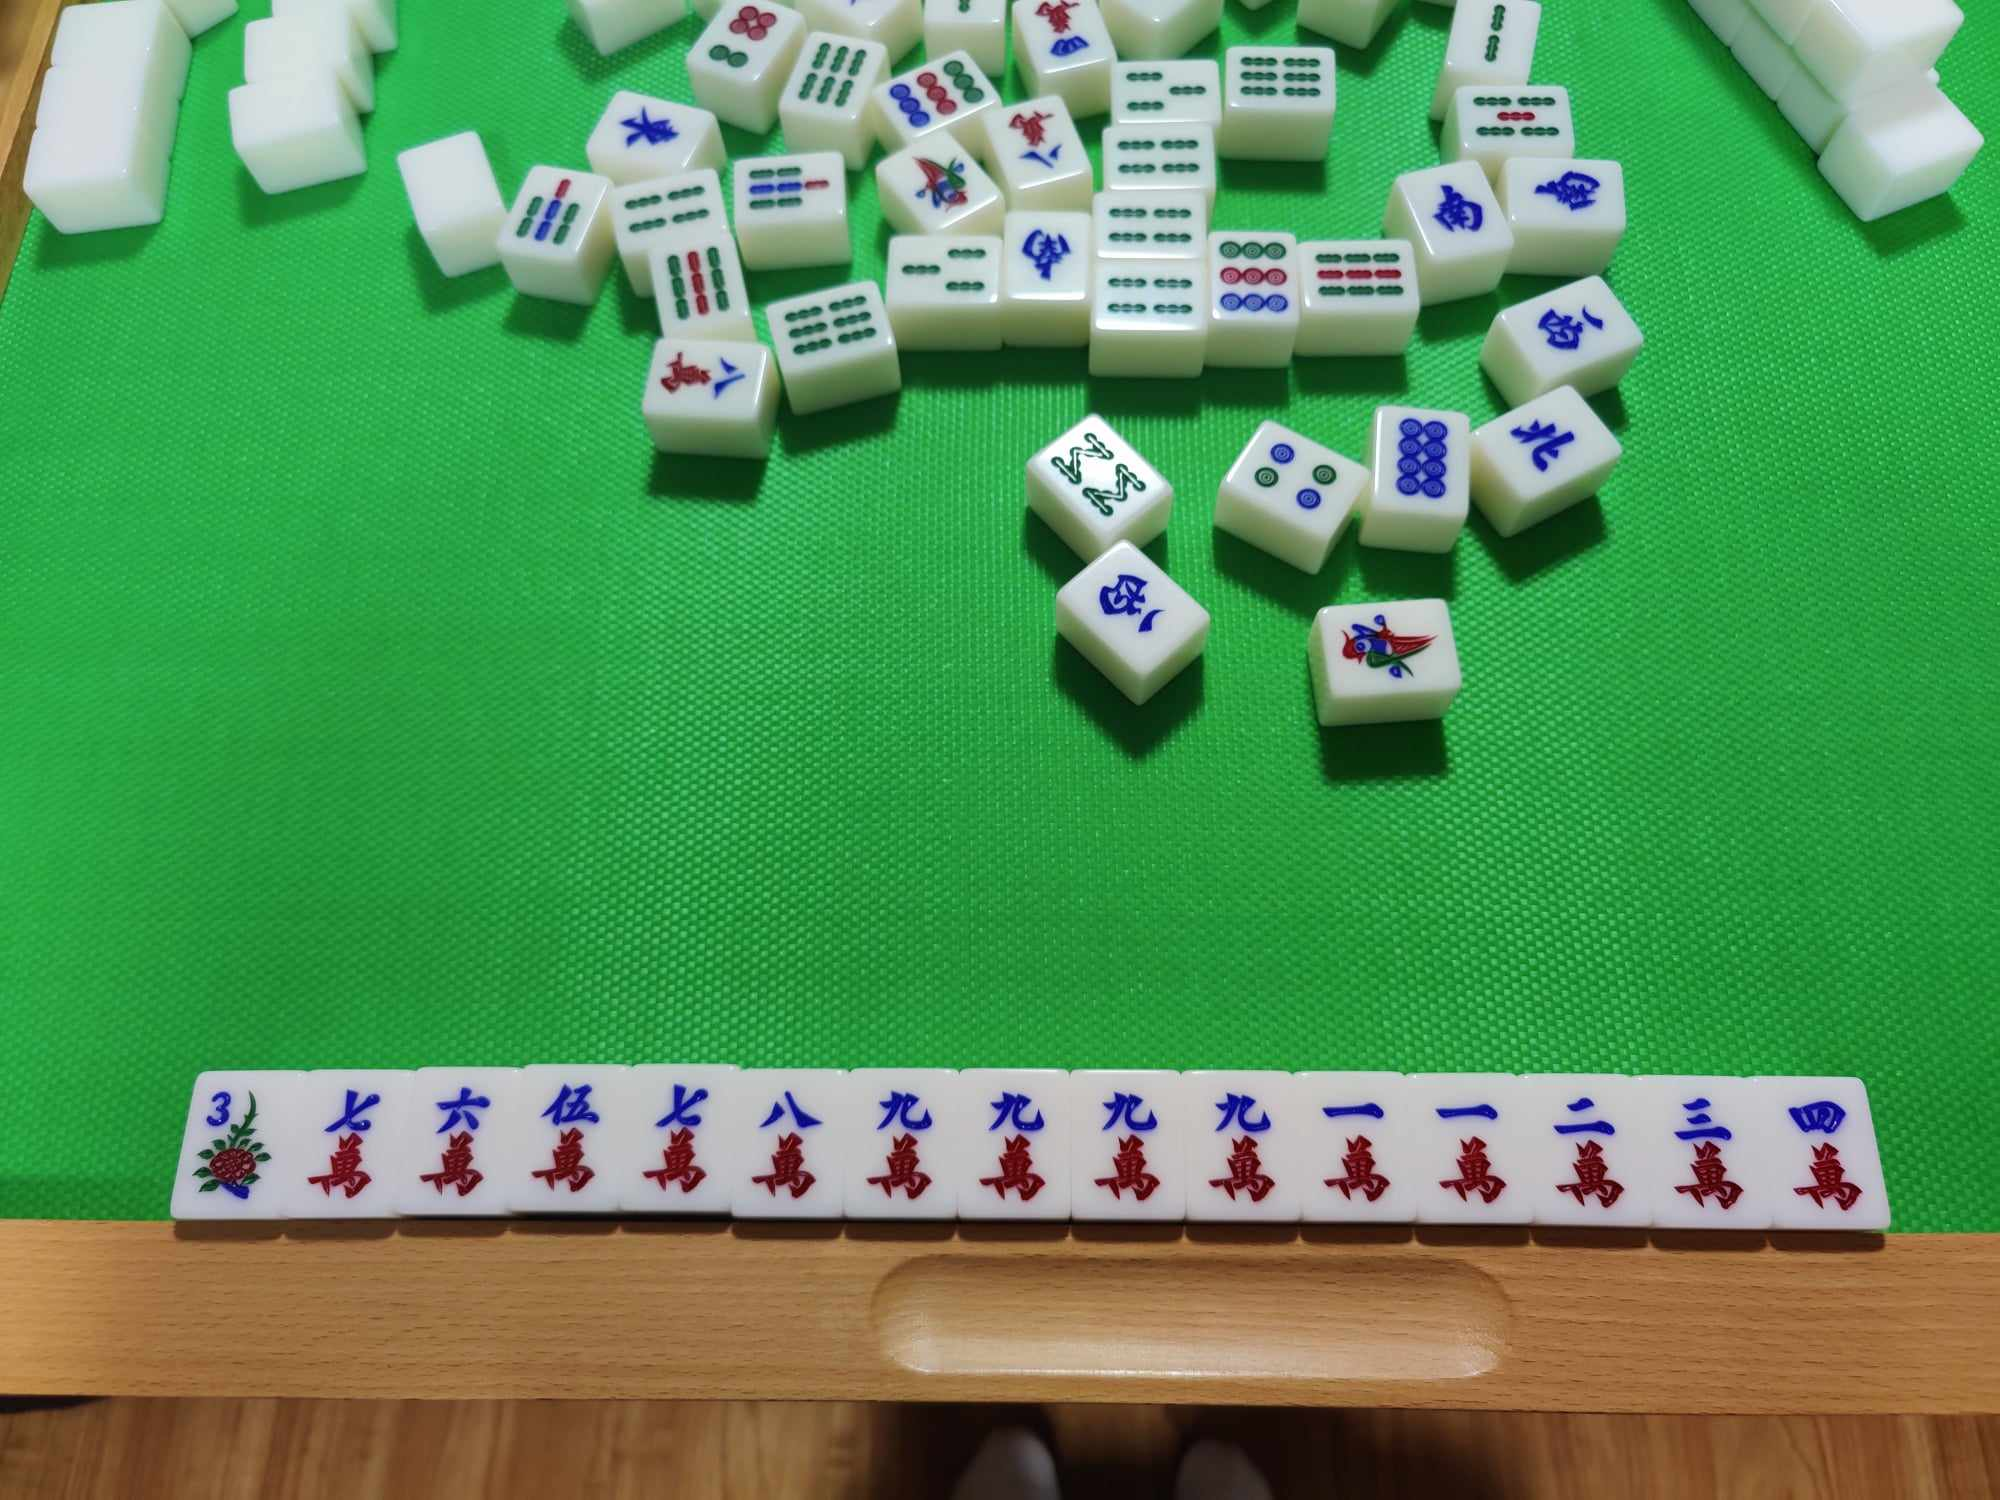character-eight: (737, 1071, 838, 1213)
character-five: (524, 1067, 624, 1207)
character-four: (1770, 1076, 1888, 1227)
character-nine: (1187, 1070, 1301, 1220), (1072, 1071, 1184, 1220), (961, 1070, 1068, 1220), (850, 1073, 953, 1213)
character-one: (1416, 1073, 1529, 1221), (1302, 1070, 1413, 1220)
character-seven: (301, 1075, 405, 1212), (628, 1068, 731, 1205)
character-six: (413, 1068, 520, 1209)
character-three: (1650, 1079, 1769, 1227)
character-two: (1532, 1076, 1647, 1224)
flower-blue_three: (195, 1075, 290, 1213)
